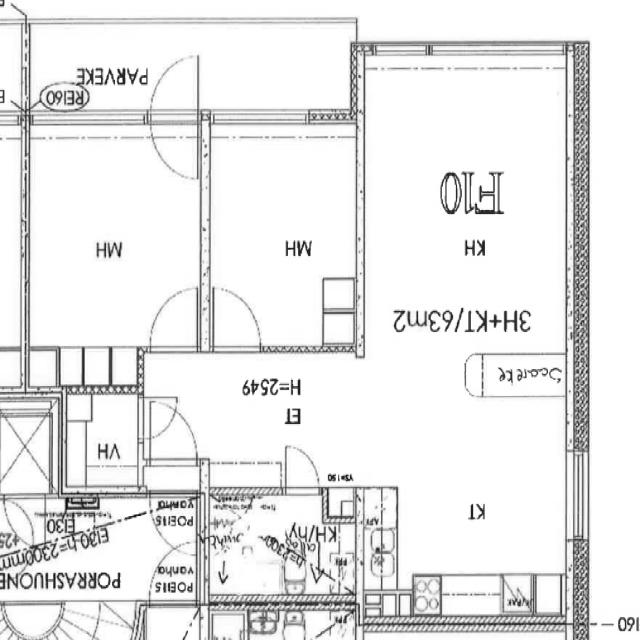door: (147, 54, 200, 129), (211, 283, 265, 353), (147, 282, 200, 352), (151, 124, 201, 182), (139, 394, 181, 446), (282, 442, 322, 496)
window: (31, 111, 148, 142), (209, 104, 312, 136), (564, 448, 594, 545), (91, 482, 144, 505), (147, 340, 197, 360)
zone: (363, 63, 567, 356), (20, 131, 206, 361), (208, 133, 361, 350), (12, 493, 201, 601), (203, 489, 351, 601), (61, 388, 142, 491), (0, 396, 56, 497), (477, 353, 569, 400), (360, 485, 399, 590), (276, 601, 358, 640), (0, 20, 28, 114), (412, 574, 441, 615), (210, 608, 247, 638)
